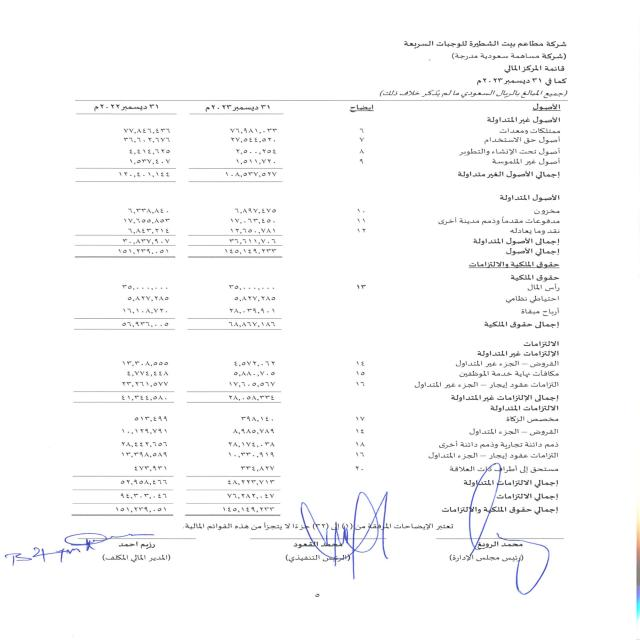financial_sheets: (495, 61, 572, 76)
table: (23, 100, 384, 530)
